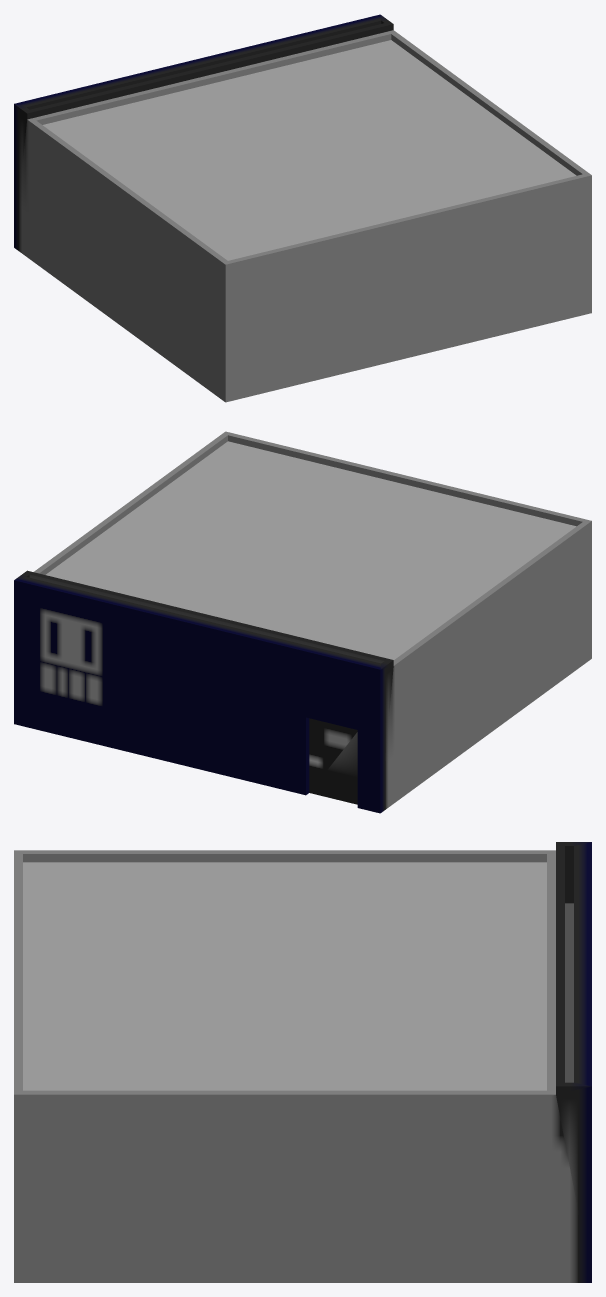
The model's file is obj_store16a.fbx.
3 views of the same model, one above another, from view 1: azimuth 30°, elevation 25°; view 2: azimuth 150°, elevation 25°; view 3: azimuth 270°, elevation 25° (orthographic). The views are drawn at different scales.
Visible parts, largest first — view 1: obj_store16a; view 2: obj_store16a; view 3: obj_store16a.
Part boxes in pixels (x1,y1,x2,y2): obj_store16a: (14, 14, 591, 402); obj_store16a: (14, 431, 591, 813); obj_store16a: (14, 842, 591, 1282).
Size of the model in its own units: 6.4 by 6.4 by 2.4.
1 material, 1 textured.
